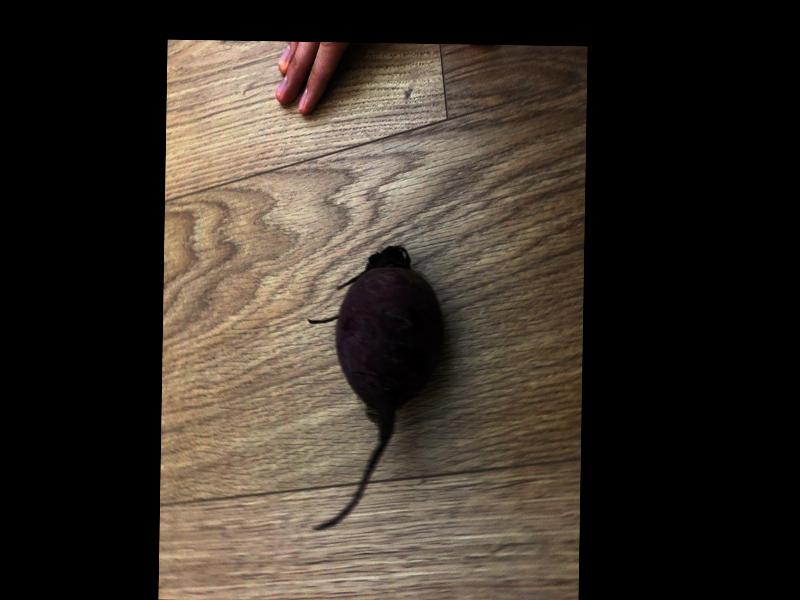Beet: (305, 246, 442, 533)
